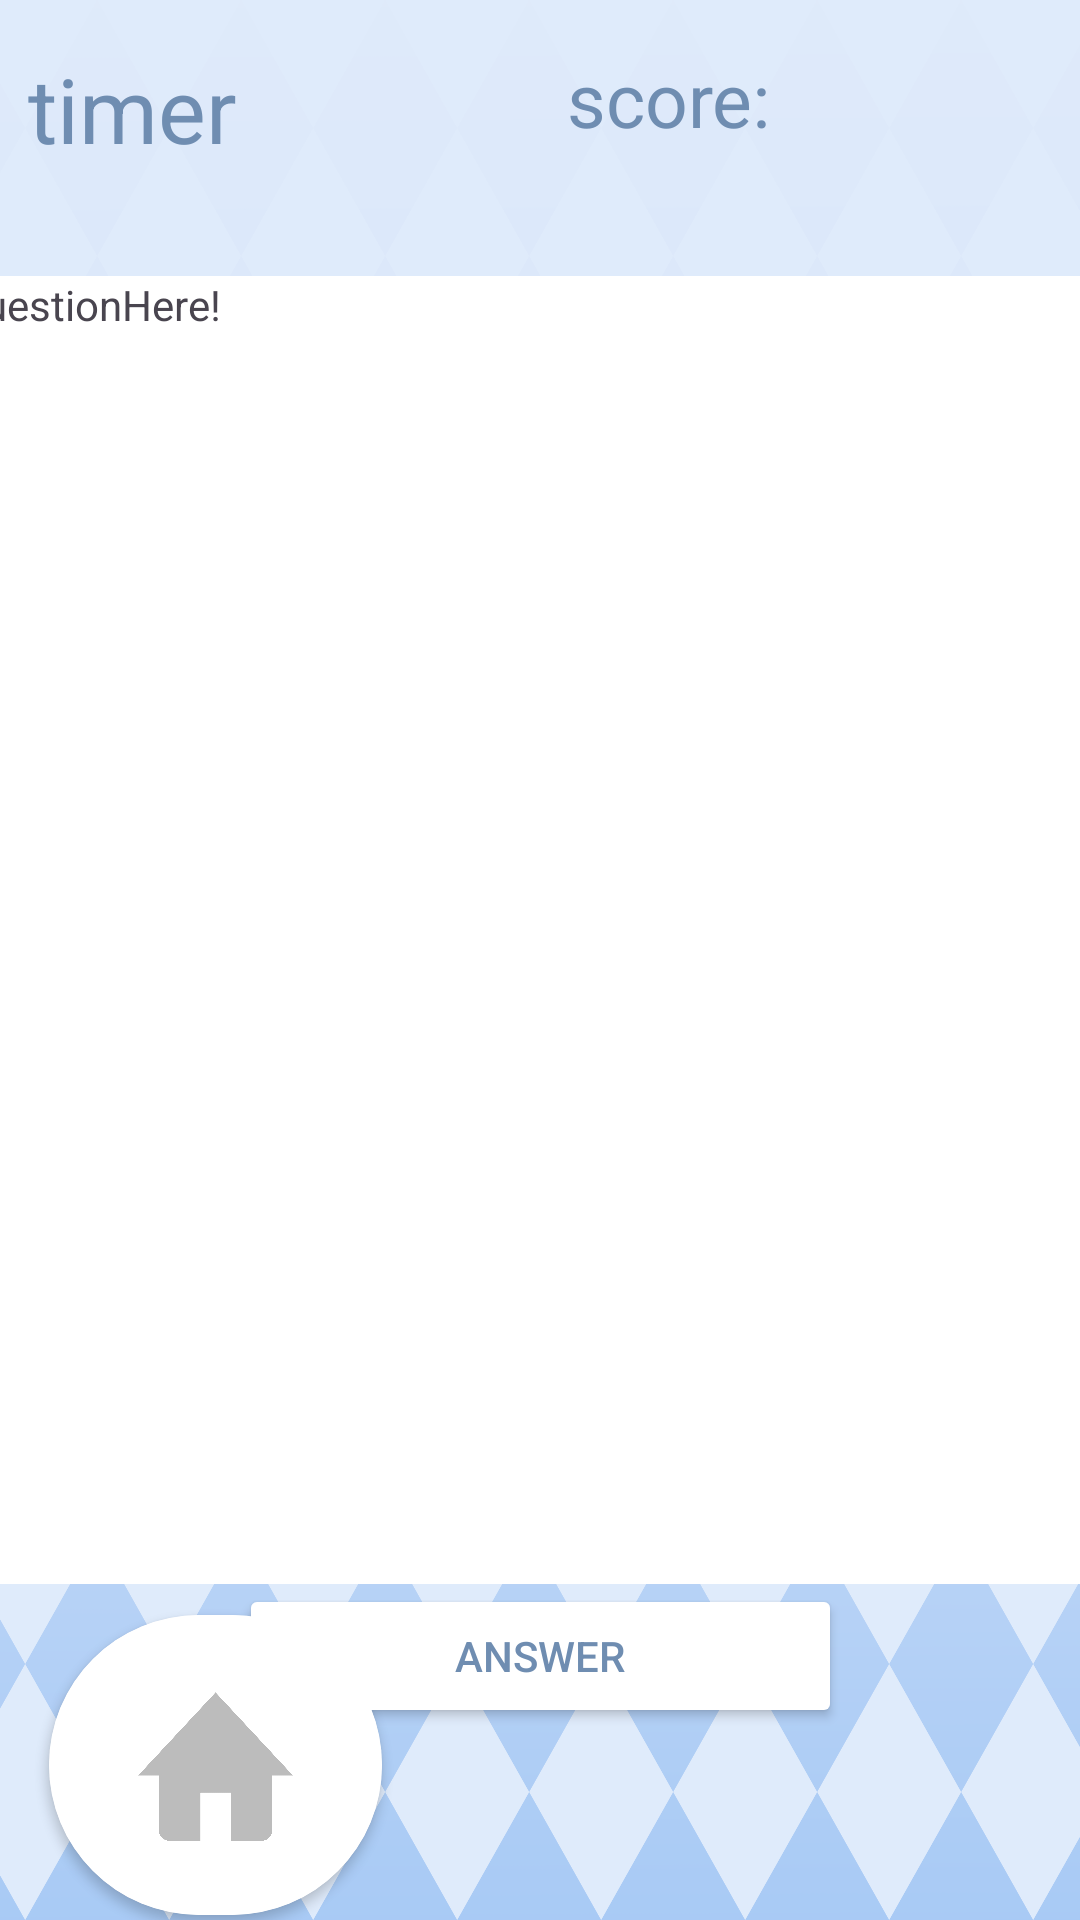

Point at icon controls on the screen. Image size 1080*1920, points as (x=x, y=y).
home button: (x=215, y=1765)
